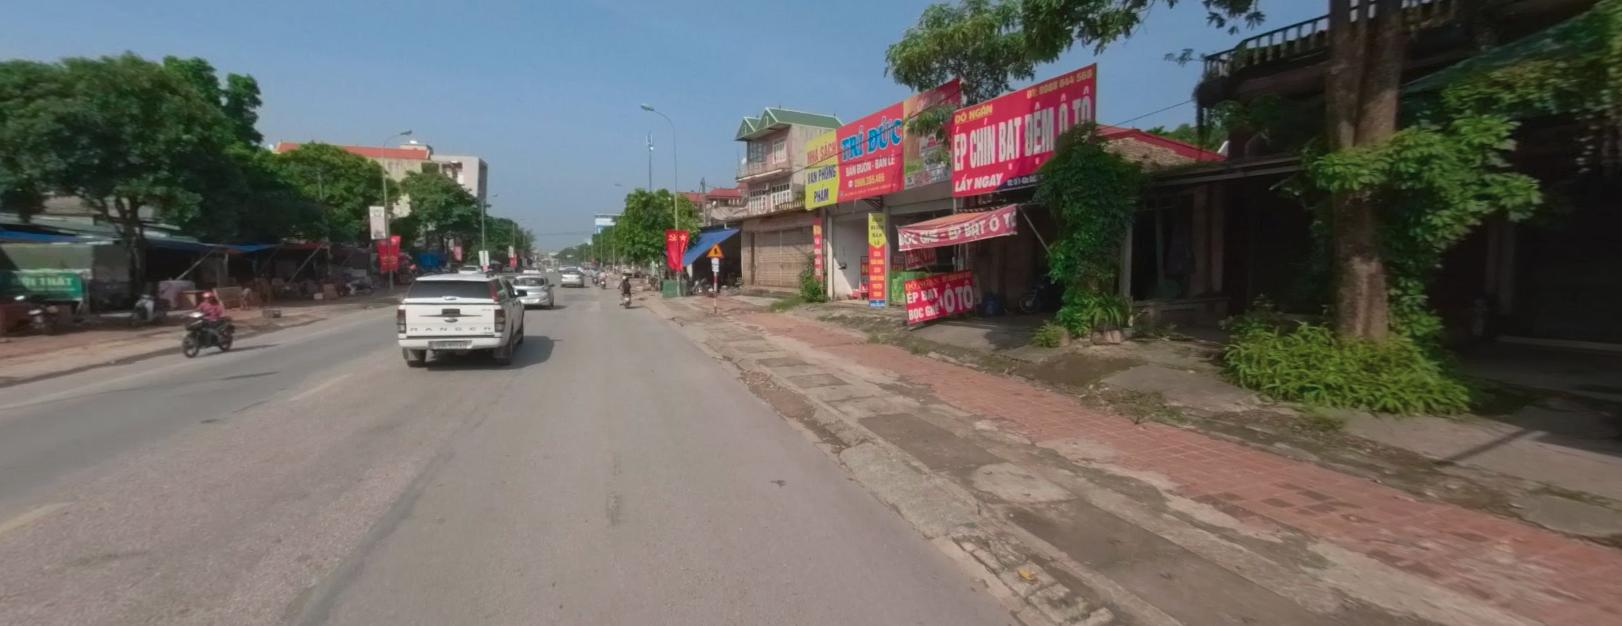Nguy hiem: (705, 241, 724, 256), (707, 242, 723, 256)
